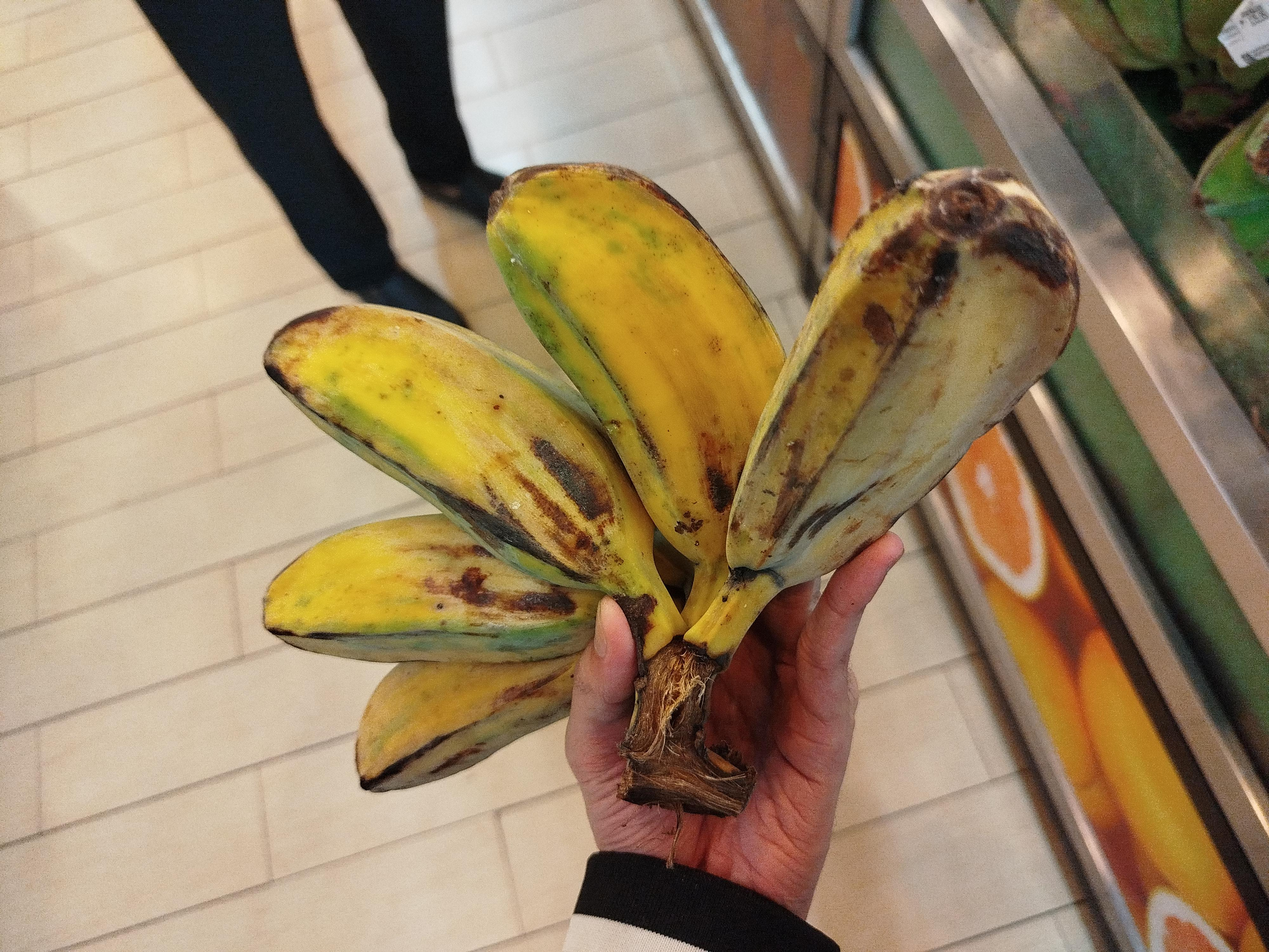underripe: (263, 164, 1077, 791)
